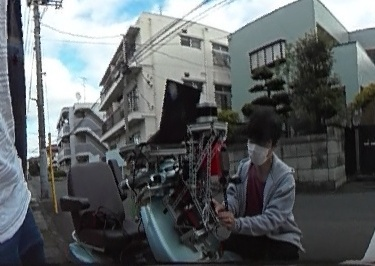person: (231, 104, 299, 266)
